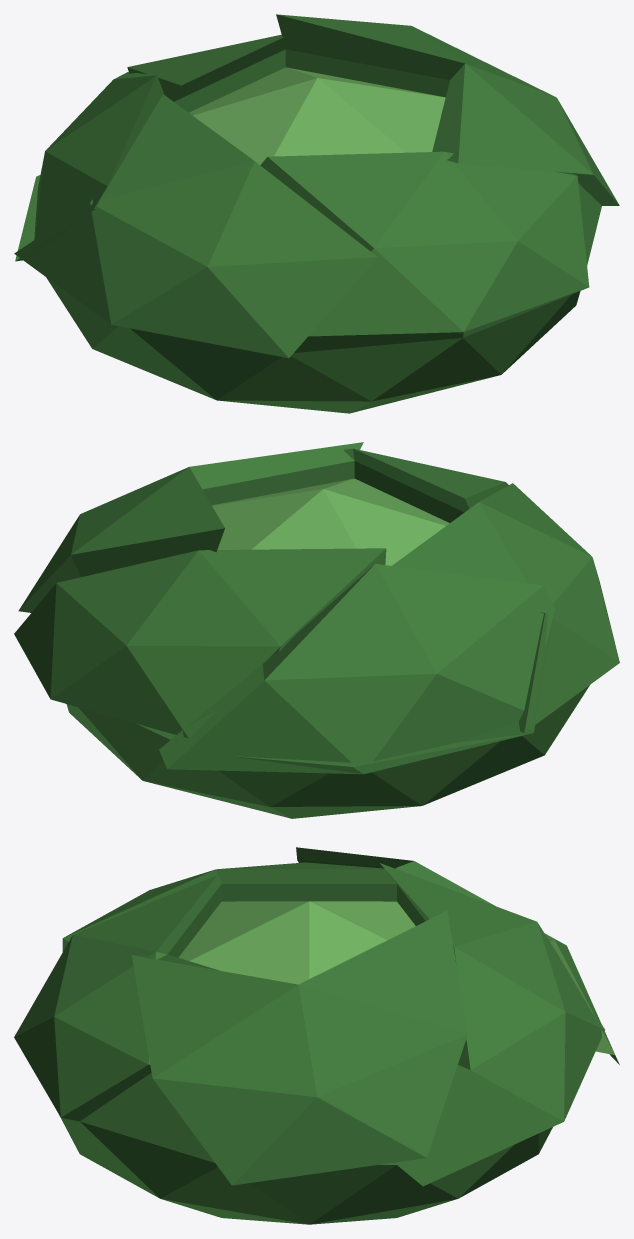
Rendered from cabbage_stage_2.glb.
3 renders of one model, top to bottom at view 1: azimuth 30°, elevation 25°; view 2: azimuth 150°, elevation 25°; view 3: azimuth 270°, elevation 25°, orthographic. The views are drawn at different scales.
Parts seen in each view (by area): view 1: Icosphere.001; view 2: Icosphere.001; view 3: Icosphere.001.
Part boxes in pixels (box(x1,y1,x2,y2)): Icosphere.001: box(14, 14, 619, 413); Icosphere.001: box(14, 442, 619, 818); Icosphere.001: box(14, 847, 619, 1224).
Bounding box in the file's own units: 0.4964 × 0.2713 × 0.5126.
